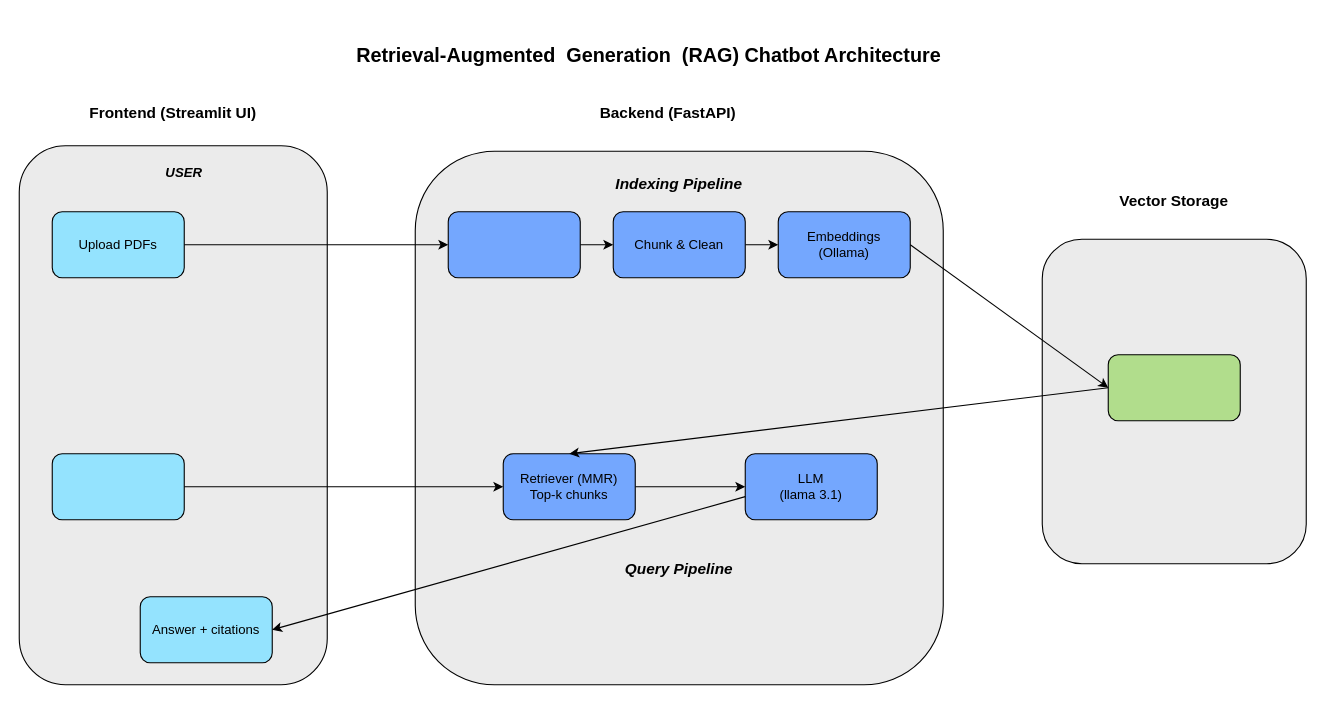
This 1326x704 diagram has some shape labels left out. Here are the shapes that lost their labels. From the top down, the centre of each, then its label:
At [513,244]: "Parse PDFs (PyMuPDF)".
At [1173,387]: "ChromaDB (Embeddings + Metadata)".
At [117,486]: "Ask Questions".
